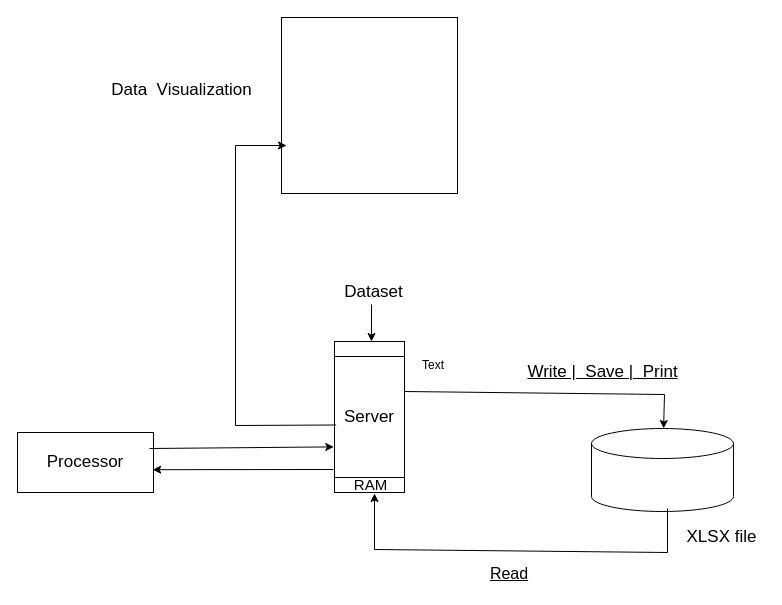
The diagram is 782 pixels wide and 605 high, and some of its shapes have lost their labels. Each missing label, with the centre of its shape:
DATA: (x=662, y=470)
Show: (x=369, y=105)
